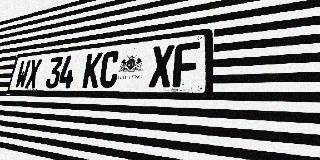3: (45, 56, 64, 88)
4: (58, 55, 77, 88)
C: (98, 50, 121, 88)
F: (172, 41, 200, 87)
K: (82, 52, 103, 88)
W: (14, 60, 31, 89)
X: (149, 44, 175, 88), (25, 59, 42, 89)
